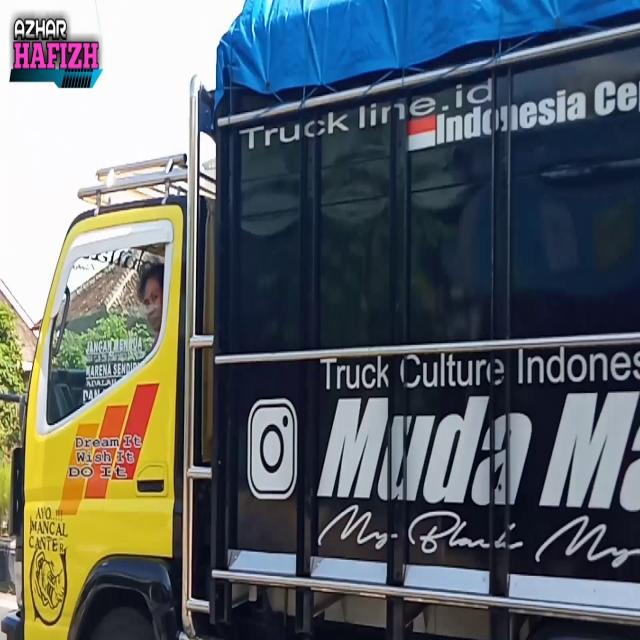truck: (16, 70, 640, 639)
